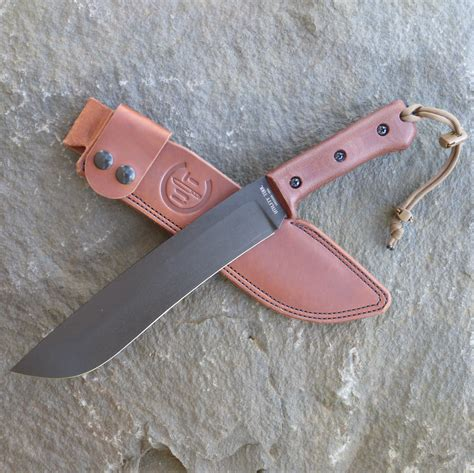knife: (12, 97, 419, 381)
